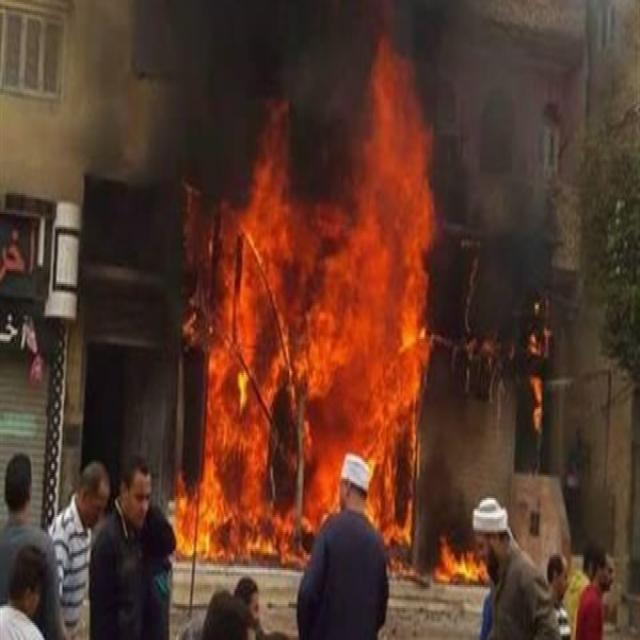Fire: (193, 38, 434, 564)
